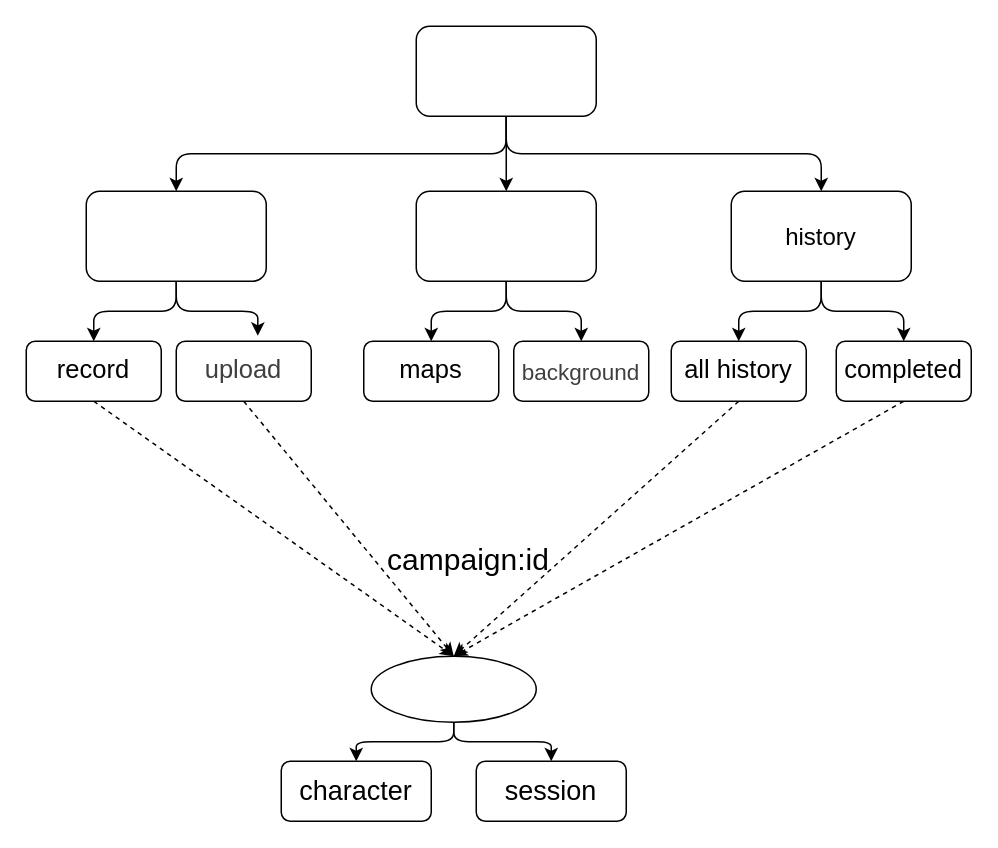
The diagram is 998 pixels wide and 848 high, and some of its shapes have lost their labels. Each missing label, with the box of its shape:
dashboard (ready to start): (85, 190, 266, 281)
Index (Log in): (415, 25, 596, 116)
resource: (415, 190, 596, 281)
summary: (370, 655, 536, 722)
